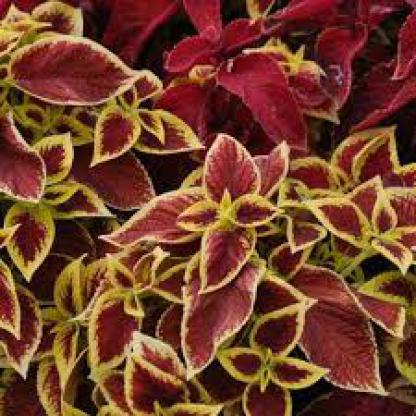Bunga Coleus: (3, 7, 391, 412)
